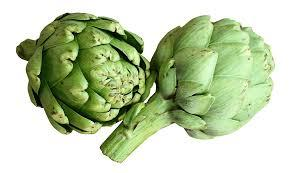non-mango: (15, 11, 153, 135)
